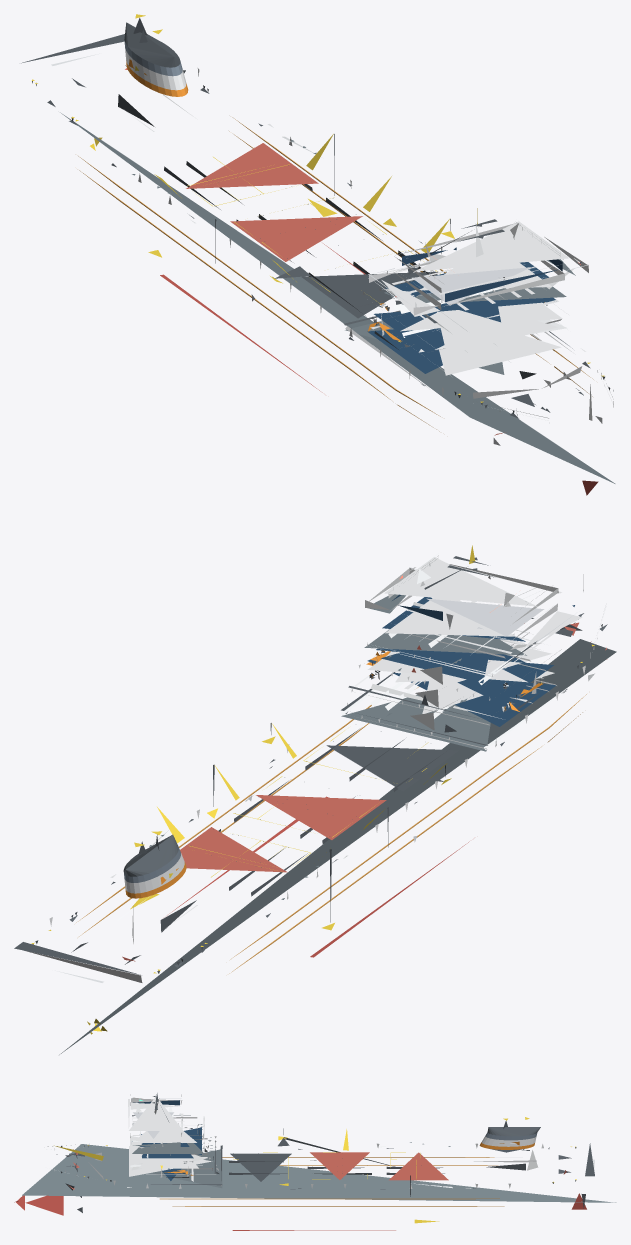
Rendered from ship_21.glb.
3 views of the same model, one above another, from view 1: azimuth 30°, elevation 25°; view 2: azimuth 150°, elevation 25°; view 3: azimuth 270°, elevation 25° (orthographic). The views are drawn at different scales.
Parts seen in each view (by area): view 1: TrueHelm_Ship_21; view 2: TrueHelm_Ship_21; view 3: TrueHelm_Ship_21.
Boxes of the visible parts, box(x1,y1,x2,y2) form: TrueHelm_Ship_21: box(21, 14, 615, 495); TrueHelm_Ship_21: box(14, 545, 616, 1054); TrueHelm_Ship_21: box(14, 1093, 616, 1230).
Size of the model in its own units: 0.1484 by 0.1705 by 0.744.
